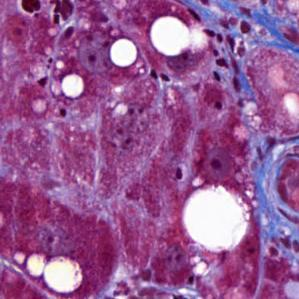inflammation: (202, 17, 259, 70)
